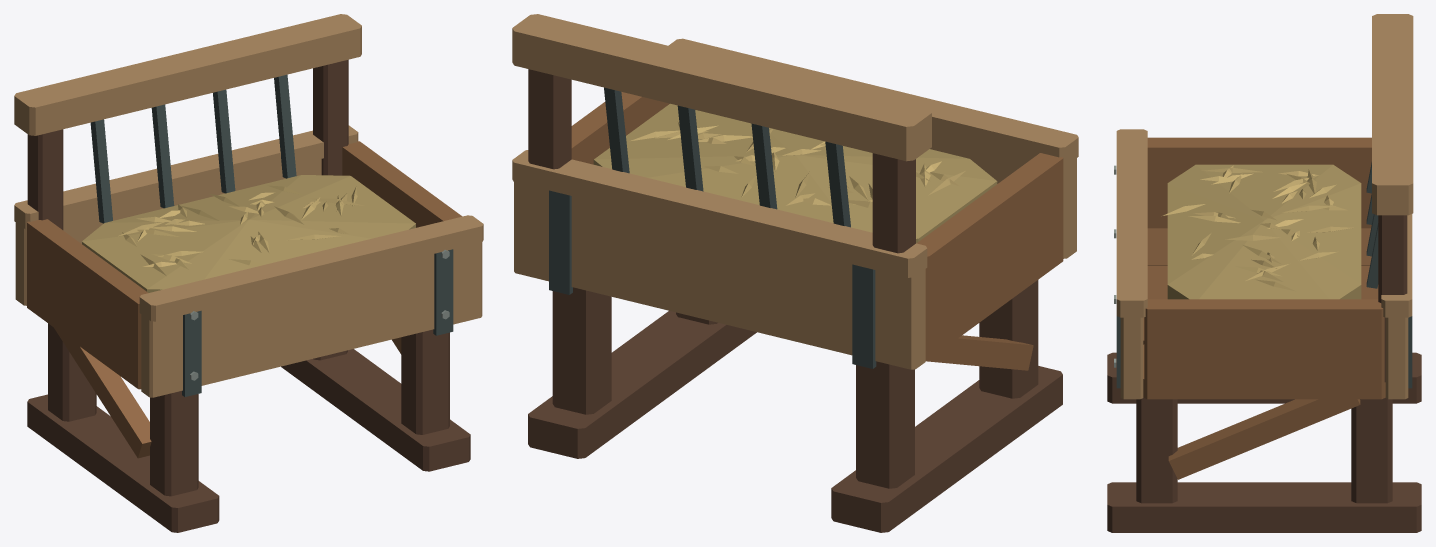
The model's file is feed_trough_barn.glb.
The picture shows the model from 3 angles, left to right: view 1: azimuth 30°, elevation 25°; view 2: azimuth 150°, elevation 25°; view 3: azimuth 270°, elevation 25°; orthographic projection. The views are drawn at different scales.
Parts seen in each view (by area): view 1: geometry, hay; view 2: geometry, hay; view 3: geometry, hay.
Part boxes in pixels (x1,y1,x2,y2): geometry: (14, 14, 483, 532); hay: (82, 175, 415, 292); geometry: (512, 14, 1078, 532); hay: (593, 103, 997, 243); geometry: (1107, 14, 1421, 532); hay: (1163, 164, 1361, 299).
Bounding box in the file's own units: 0.98 × 0.95 × 0.76.
